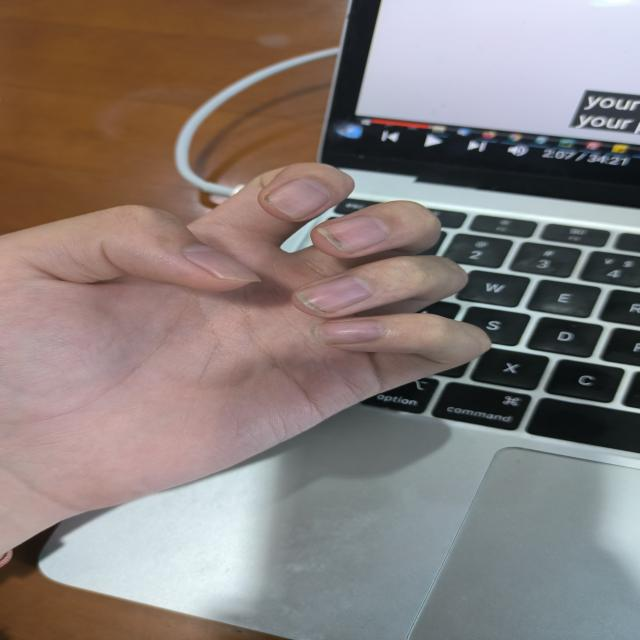Nail: (296, 276, 372, 314), (183, 245, 261, 281), (317, 216, 389, 254), (263, 179, 331, 219), (309, 320, 387, 344)
